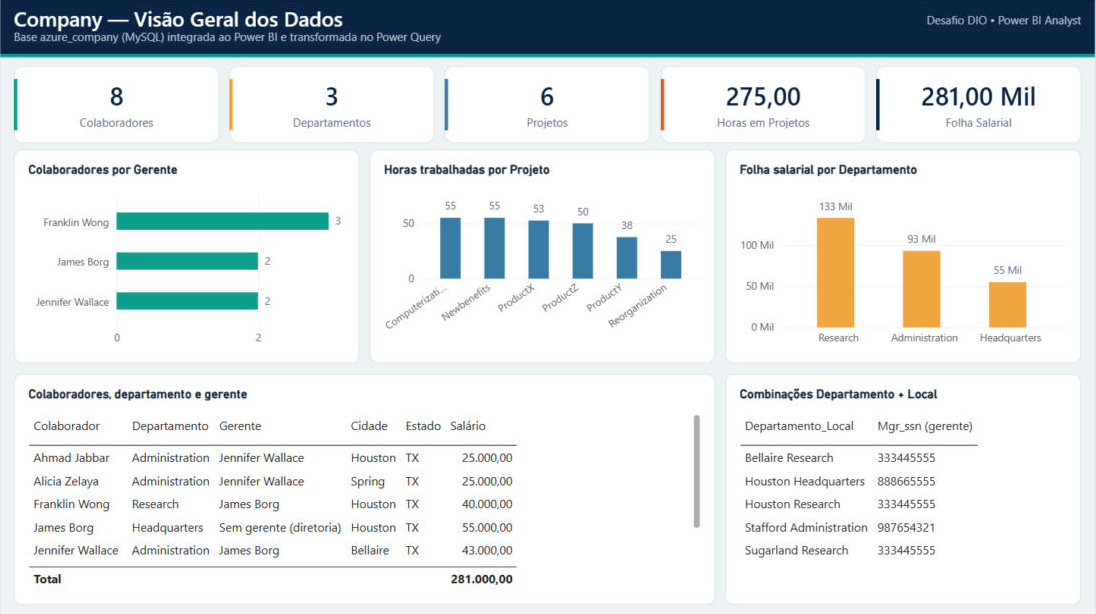

The page's visual inventory and layout, read from the dashboard file:
{"tool":"powerbi","page":{"name":"Visão Geral","canvas":[1280,720],"ordinal":0},"visuals":[{"type":"shape","box":[0,0,1280,64],"z":100},{"type":"shape","box":[0,64,1280,4],"z":200},{"type":"textbox","box":[16,6,900,36],"z":300},{"type":"textbox","box":[16,34,900,28],"z":400},{"type":"textbox","box":[940,14,324,40],"z":500},{"type":"card","fields":{"Values":["Count(Colaboradores.Ssn)"]},"box":[16,78,240,90],"z":600},{"type":"shape","box":[16,93,4,60],"z":700},{"type":"card","fields":{"Values":["Count(Departamentos.Departamento)"]},"box":[268,78,240,90],"z":800},{"type":"shape","box":[268,93,4,60],"z":900},{"type":"card","fields":{"Values":["Count(Projetos.Projeto)"]},"box":[520,78,240,90],"z":1000},{"type":"shape","box":[520,93,4,60],"z":1100},{"type":"card","fields":{"Values":["Sum(Projetos.Total de Horas)"]},"box":[772,78,240,90],"z":1200},{"type":"shape","box":[772,93,4,60],"z":1300},{"type":"card","fields":{"Values":["Sum(Colaboradores.Salário)"]},"box":[1024,78,240,90],"z":1400},{"type":"shape","box":[1024,93,4,60],"z":1500},{"type":"clusteredBarChart","title":"Colaboradores por Gerente","fields":{"Category":["Colaboradores por Gerente.Gerente"],"Y":["Sum(Colaboradores por Gerente.Qtd. Colaboradores)"]},"box":[16,176,404,250],"z":1600},{"type":"clusteredColumnChart","title":"Horas trabalhadas por Projeto","fields":{"Category":["Projetos.Projeto"],"Y":["Sum(Projetos.Total de Horas)"]},"box":[432,176,404,250],"z":1700},{"type":"clusteredColumnChart","title":"Folha salarial por Departamento","fields":{"Category":["Colaboradores.Departamento"],"Y":["Sum(Colaboradores.Salário)"]},"box":[848,176,416,250],"z":1800},{"type":"tableEx","title":"Colaboradores, departamento e gerente","fields":{"Values":["Colaboradores.Colaborador","Colaboradores.Departamento","Colaboradores.Gerente","Colaboradores.Cidade","Colaboradores.Estado","Sum(Colaboradores.Salário)"]},"box":[16,438,820,270],"z":1900},{"type":"tableEx","title":"Combinações Departamento + Local","fields":{"Values":["Departamentos e Locais.Departamento_Local","Departamentos e Locais.Mgr_ssn"]},"box":[848,438,416,270],"z":2000}]}

Visuals, with their boxes in screenshot pixels (x1, y1, x2, y2), scaled from the page's 1280x720 canvas onto the 1096x614 screenshot:
shape: crop(0, 0, 1095, 55)
shape: crop(0, 55, 1095, 58)
textbox: crop(14, 5, 784, 36)
textbox: crop(14, 29, 784, 53)
textbox: crop(805, 12, 1082, 46)
card - Count(Colaboradores.Ssn): crop(14, 67, 219, 143)
shape: crop(14, 79, 17, 130)
card - Count(Departamentos.Departamento): crop(229, 67, 435, 143)
shape: crop(229, 79, 233, 130)
card - Count(Projetos.Projeto): crop(445, 67, 651, 143)
shape: crop(445, 79, 449, 130)
card - Sum(Projetos.Total de Horas): crop(661, 67, 867, 143)
shape: crop(661, 79, 664, 130)
card - Sum(Colaboradores.Salário): crop(877, 67, 1082, 143)
shape: crop(877, 79, 880, 130)
"Colaboradores por Gerente" clusteredBarChart: crop(14, 150, 360, 363)
"Horas trabalhadas por Projeto" clusteredColumnChart: crop(370, 150, 716, 363)
"Folha salarial por Departamento" clusteredColumnChart: crop(726, 150, 1082, 363)
"Colaboradores, departamento e gerente" tableEx: crop(14, 374, 716, 604)
"Combinações Departamento + Local" tableEx: crop(726, 374, 1082, 604)
